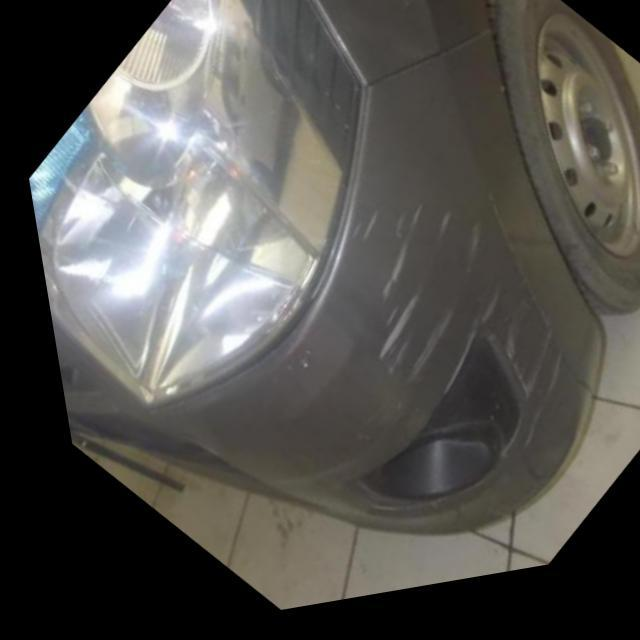rub: (428, 206, 555, 478), (338, 214, 475, 388)
